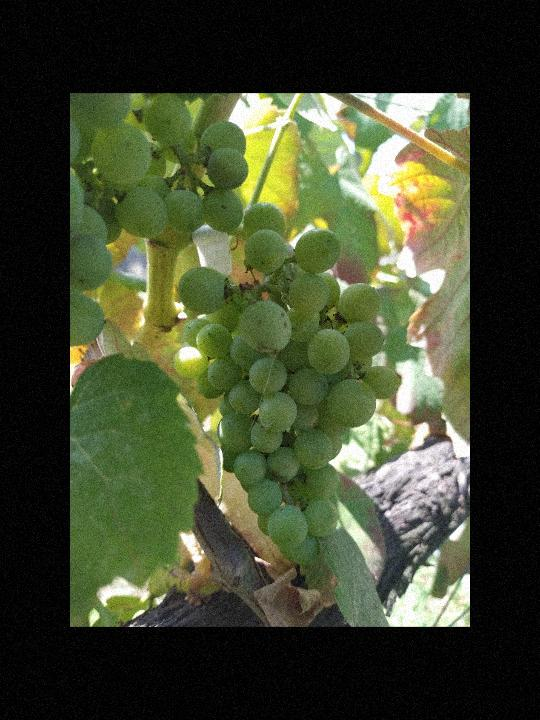grape: (175, 201, 402, 567)
